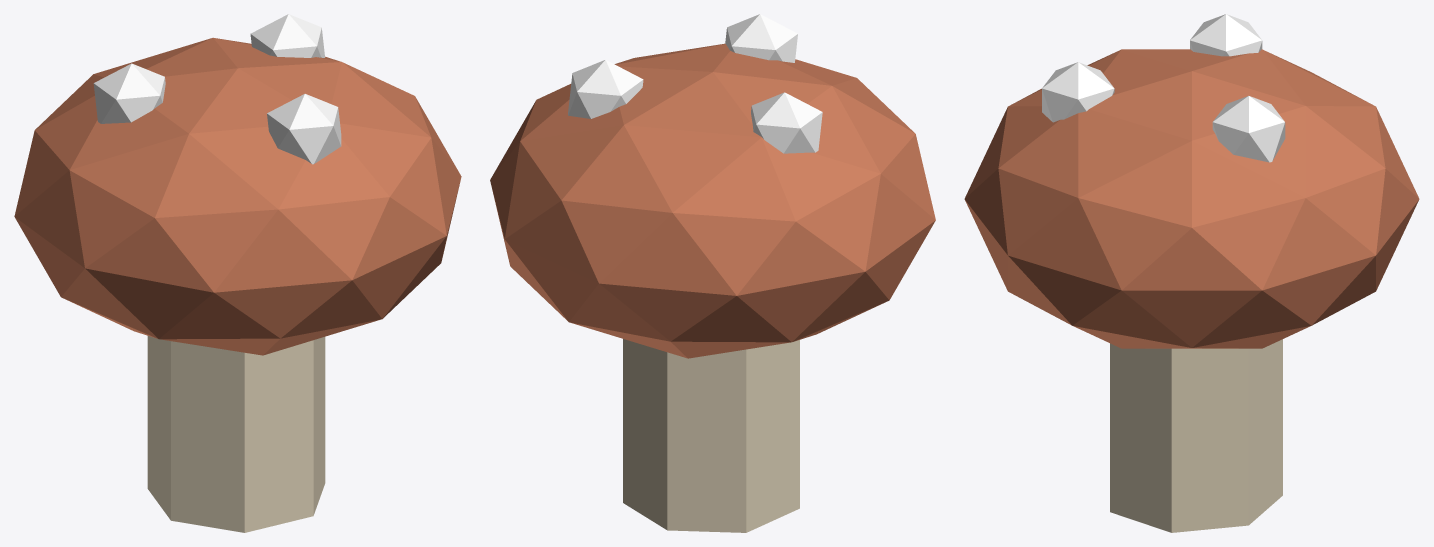
The model's file is mushroom.glb.
3 views of the same model, side by side, from view 1: azimuth 30°, elevation 25°; view 2: azimuth 150°, elevation 25°; view 3: azimuth 270°, elevation 25° (orthographic).
Visible parts, largest first — view 1: Cylinder; view 2: Cylinder; view 3: Cylinder.
Part boxes in pixels (box(x1,y1,x2,y2)): Cylinder: box(14, 14, 461, 532); Cylinder: box(490, 14, 935, 532); Cylinder: box(964, 14, 1419, 532).
Size of the model in its own units: 0.2891 by 0.323 by 0.304.
